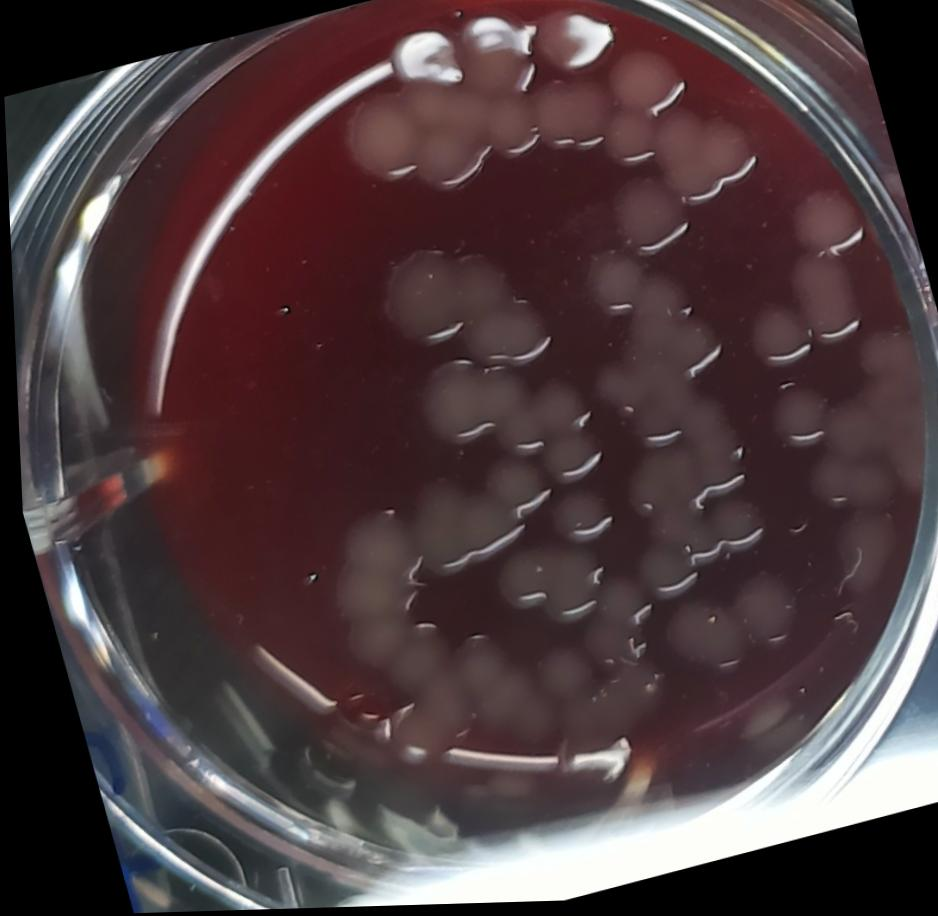vharveyi: (443, 242, 556, 381), (367, 242, 482, 367)
